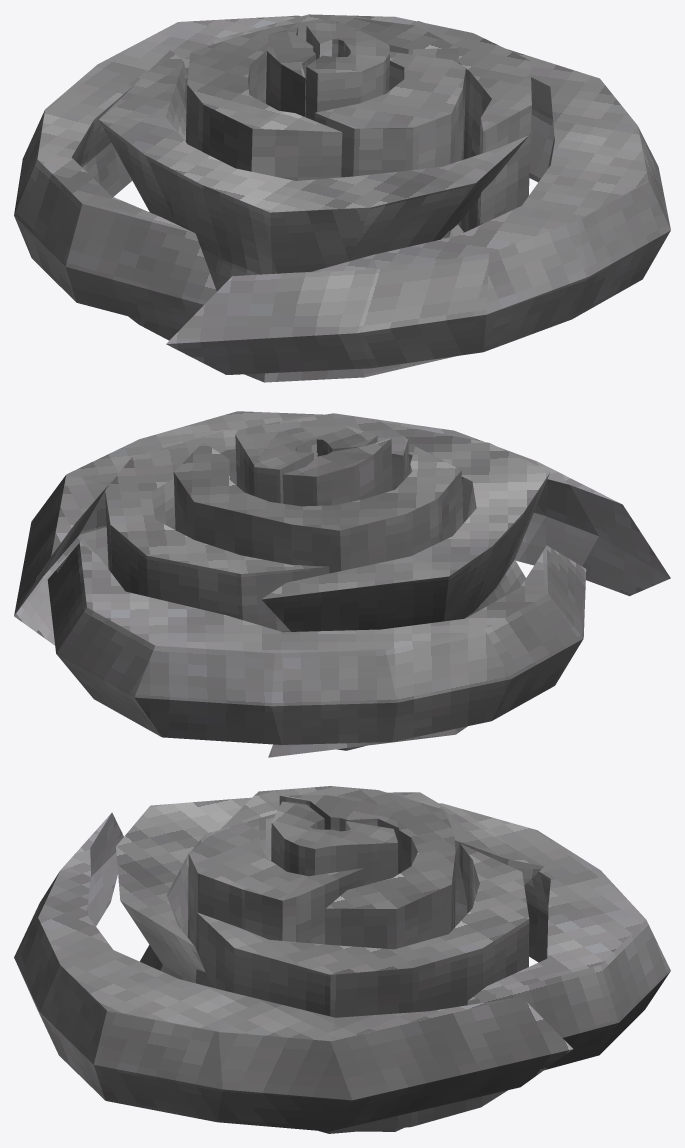
The model's file is tornado.glb.
3 views of the same model, one above another, from view 1: azimuth 30°, elevation 25°; view 2: azimuth 150°, elevation 25°; view 3: azimuth 270°, elevation 25° (orthographic). The views are drawn at different scales.
Parts seen in each view (by area): view 1: Cylinder.012; view 2: Cylinder.012; view 3: Cylinder.012.
Part boxes in pixels (bbox=[...]): Cylinder.012: bbox=[14, 14, 670, 382]; Cylinder.012: bbox=[14, 411, 670, 757]; Cylinder.012: bbox=[14, 786, 670, 1133].
Size of the model in its own units: 0.7311 by 0.3591 by 0.7564.
1 material, 1 textured.
